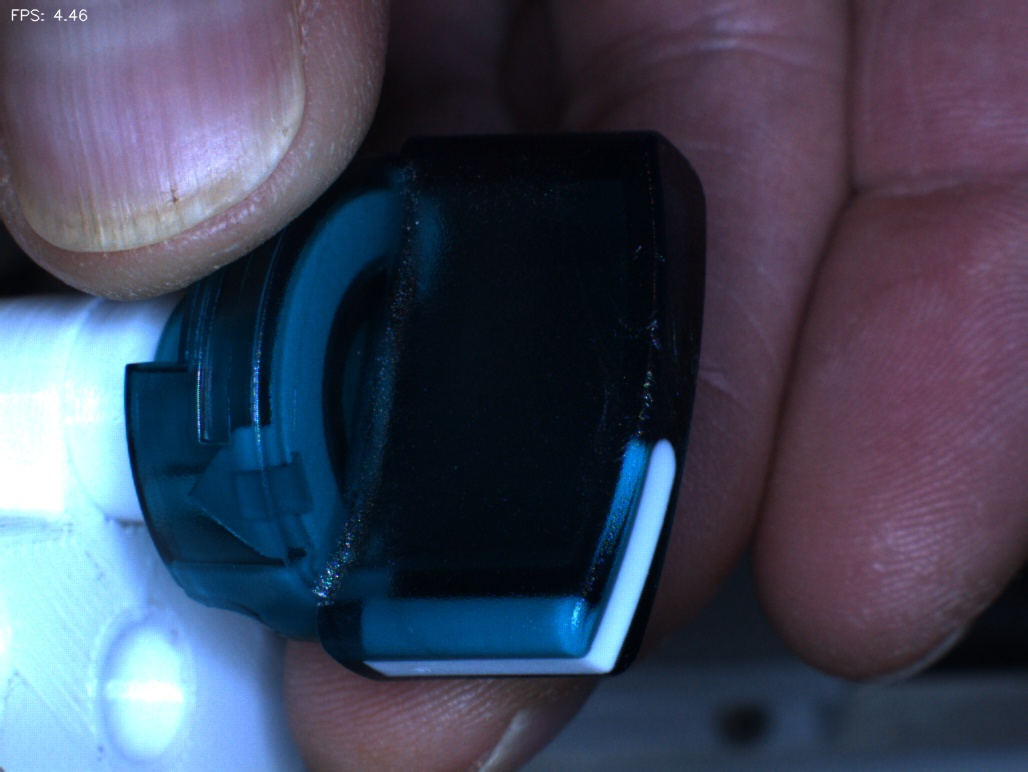Givrage: (567, 262, 679, 424)
